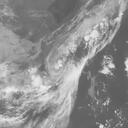cyclone: (30, 45, 78, 106)
